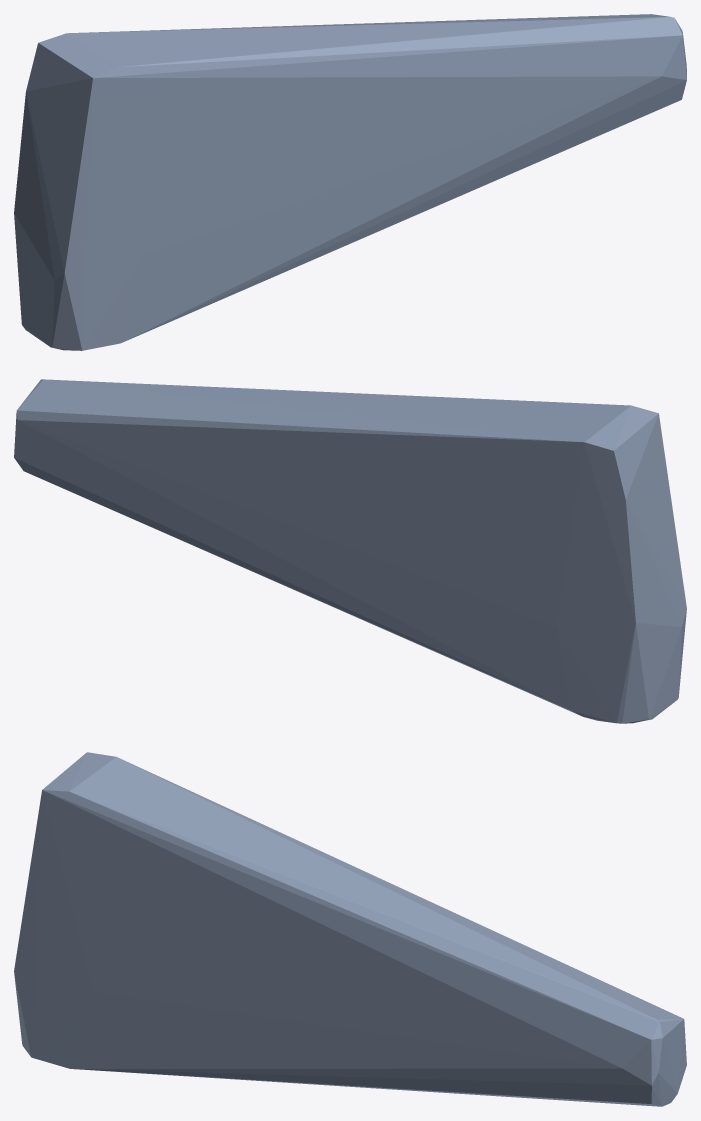
Rendered from handTool_hammer_sledge_b01.glb.
The picture shows the model from 3 angles, top to bottom: view 1: azimuth 30°, elevation 25°; view 2: azimuth 150°, elevation 25°; view 3: azimuth 330°, elevation 25°; orthographic projection.
Visible parts, largest first — view 1: geometry_0; view 2: geometry_0; view 3: geometry_0.
Part boxes in pixels (x1,y1,x2,y2): geometry_0: [14, 14, 686, 350]; geometry_0: [14, 379, 686, 723]; geometry_0: [14, 752, 686, 1106].
Size of the model in its own units: 0.4799 by 0.1997 by 0.0669.
